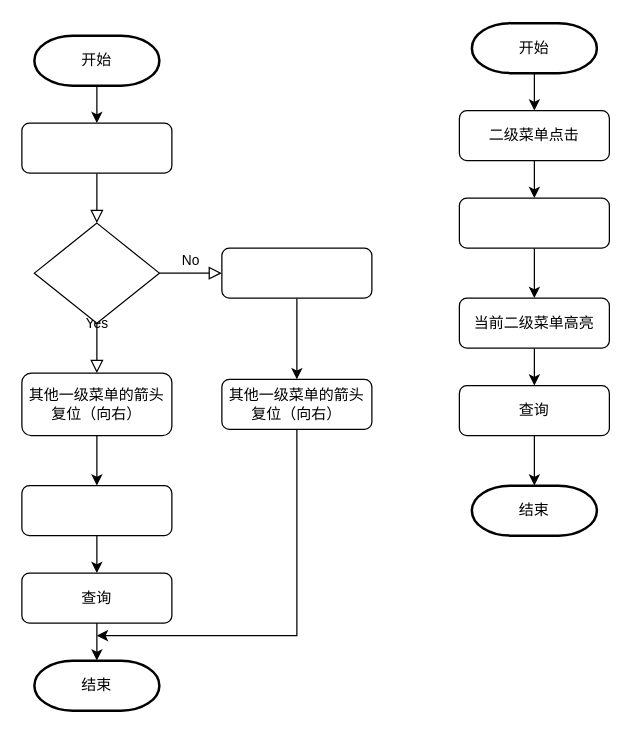
Image size: 631x733. Some labels were removed from this diagram. The centre of each missing label's shape, as x and y in pixels:
“今日资讯”？: (96,272)
一级菜单点击: (96,147)
对应的一级菜单展开，箭头向下: (296,272)
所有二级菜单样式重置: (533,222)
消除当前选中的二级菜单样式: (96,510)
